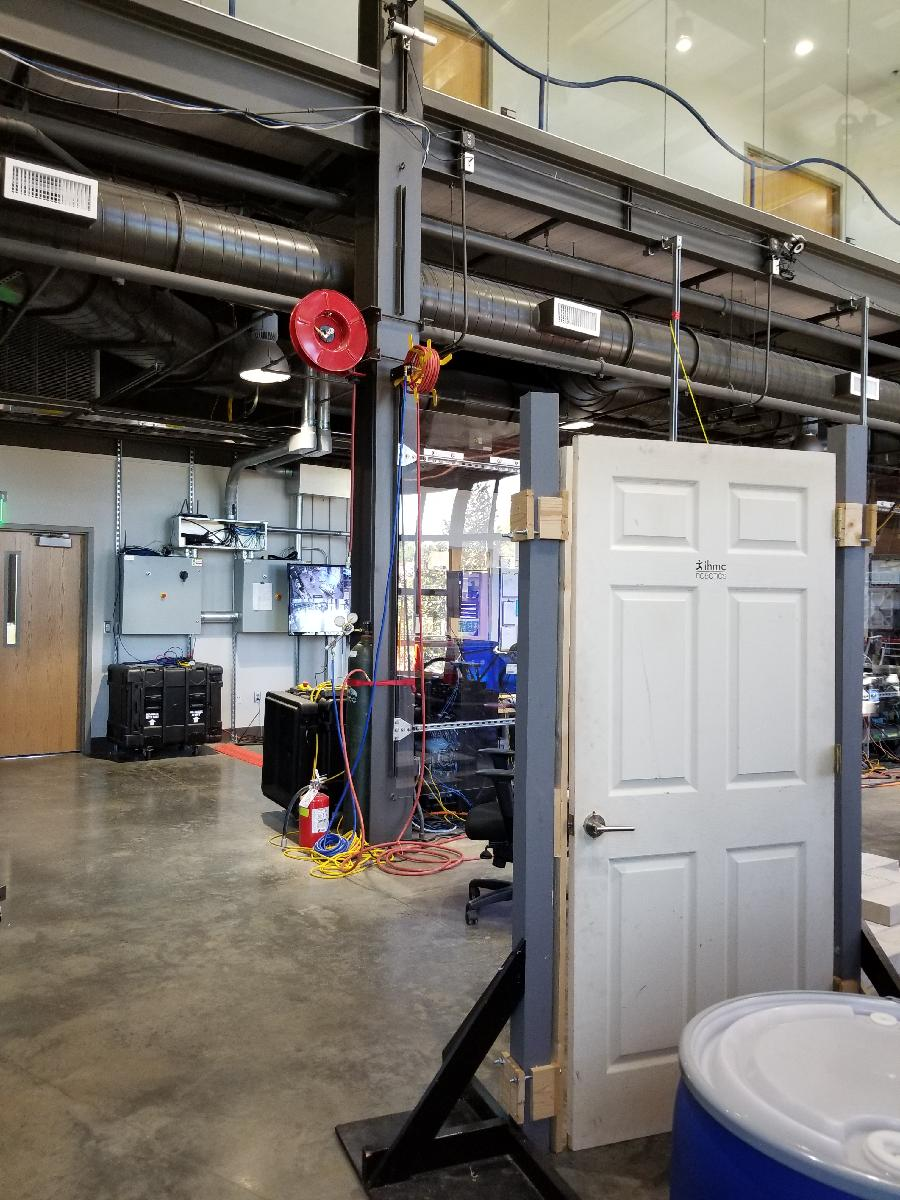door: (566, 426, 840, 1160)
doorHandle: (578, 807, 638, 840)
